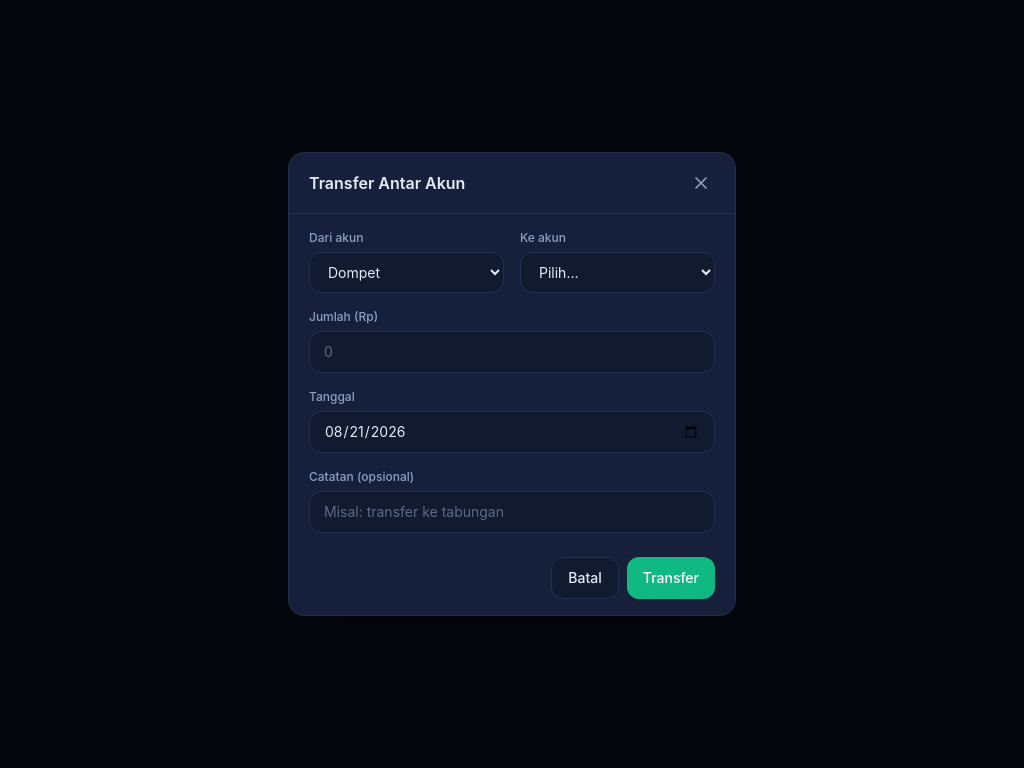
it: TransferModal › requires a valid positive amount
The width and height of the screenshot is (1024, 768).
Check: the dropdown labelled "Dari akun" shows "Dompet", box [309,252,504,293]
Select "BCA" in the dropdown labelled "Ke akun". click: (618, 272)
box: [520,252,715,293]
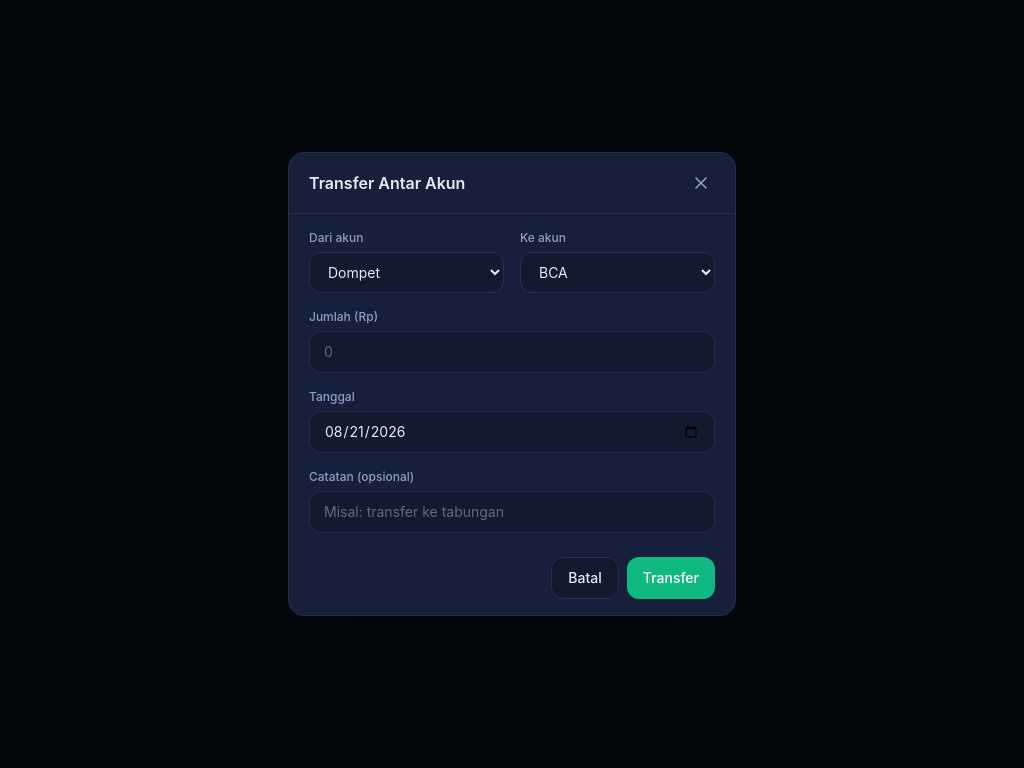
Type "abc" into the field labelled "Jumlah (Rp)". click: (512, 352)
box: [309,331,715,373]
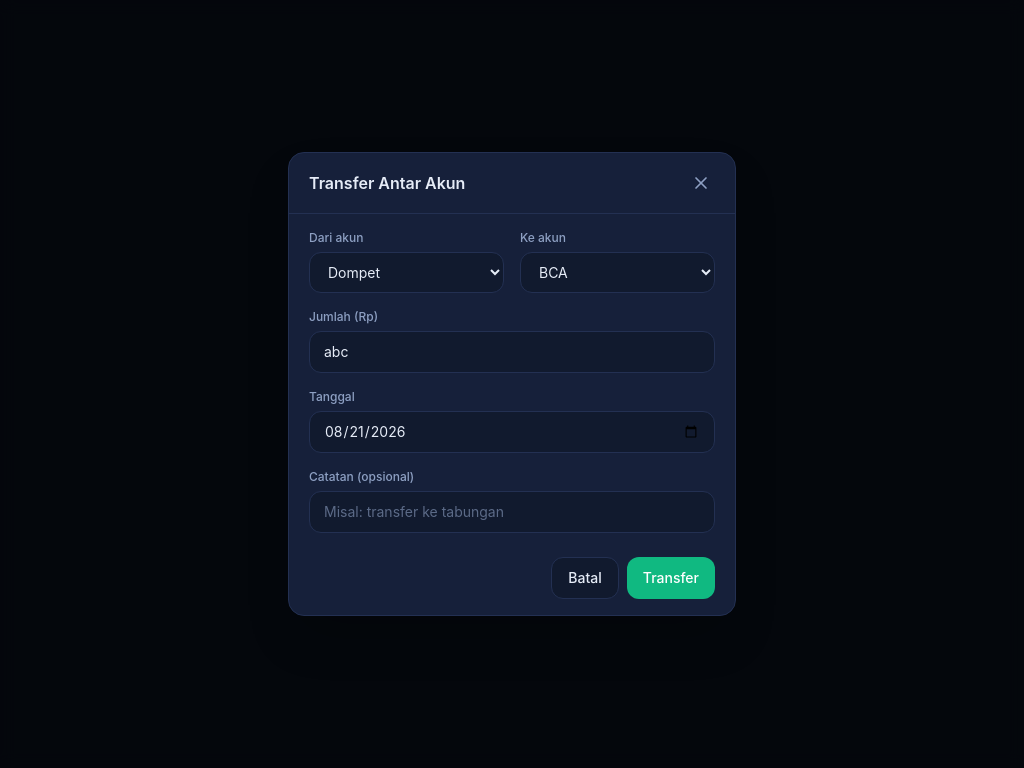
Submit the form, box [309,230,715,599]
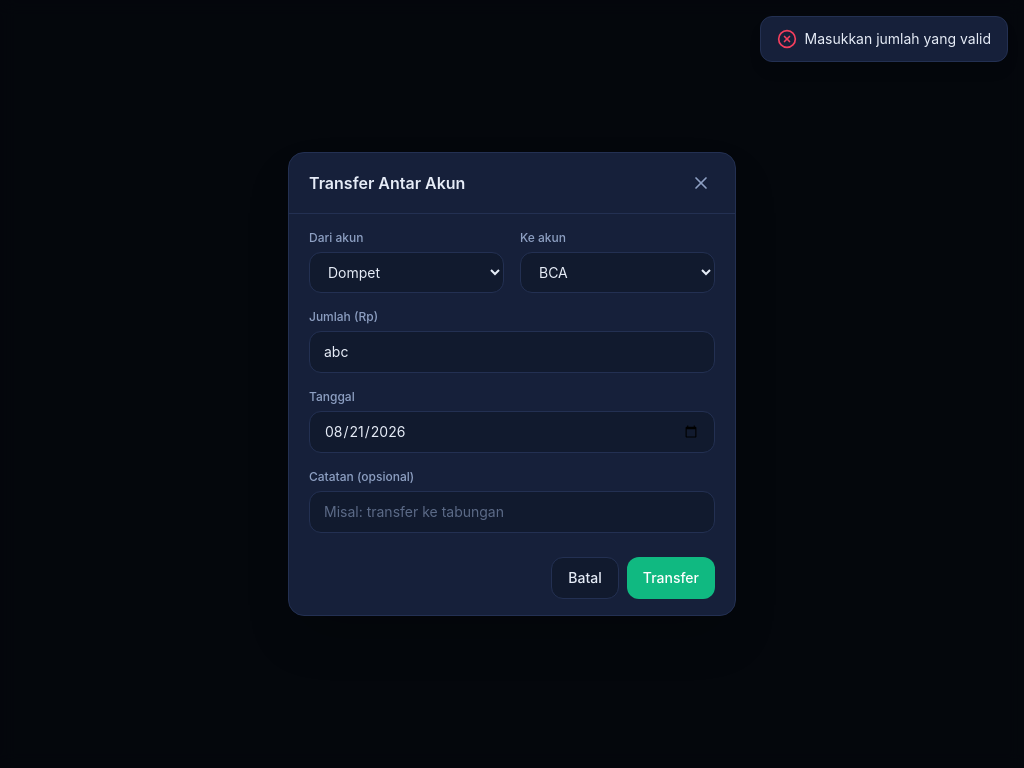
Check: the text "Masukkan jumlah yang valid" is shown, box [804,29,991,49]
